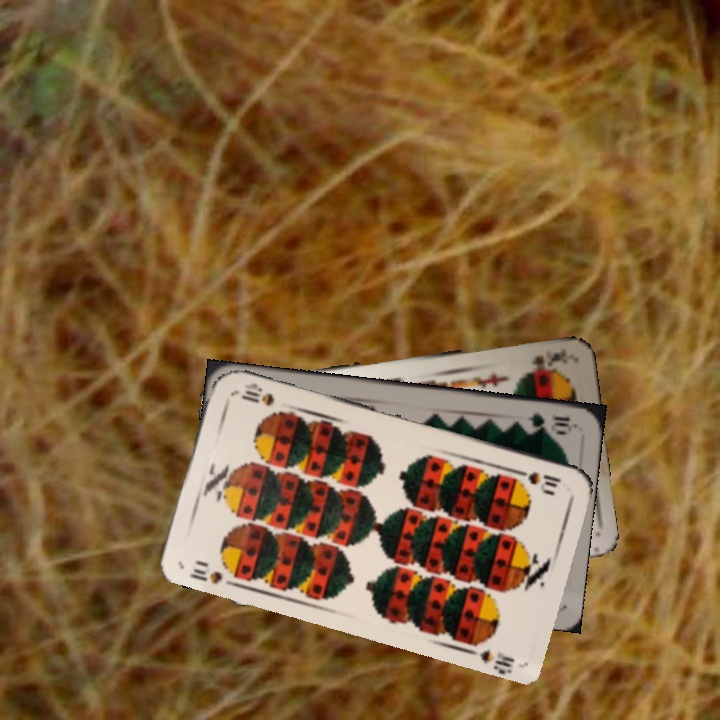G10: (522, 408, 577, 436)
S10: (511, 465, 564, 490), (186, 564, 225, 587)
SK: (528, 343, 569, 372)
